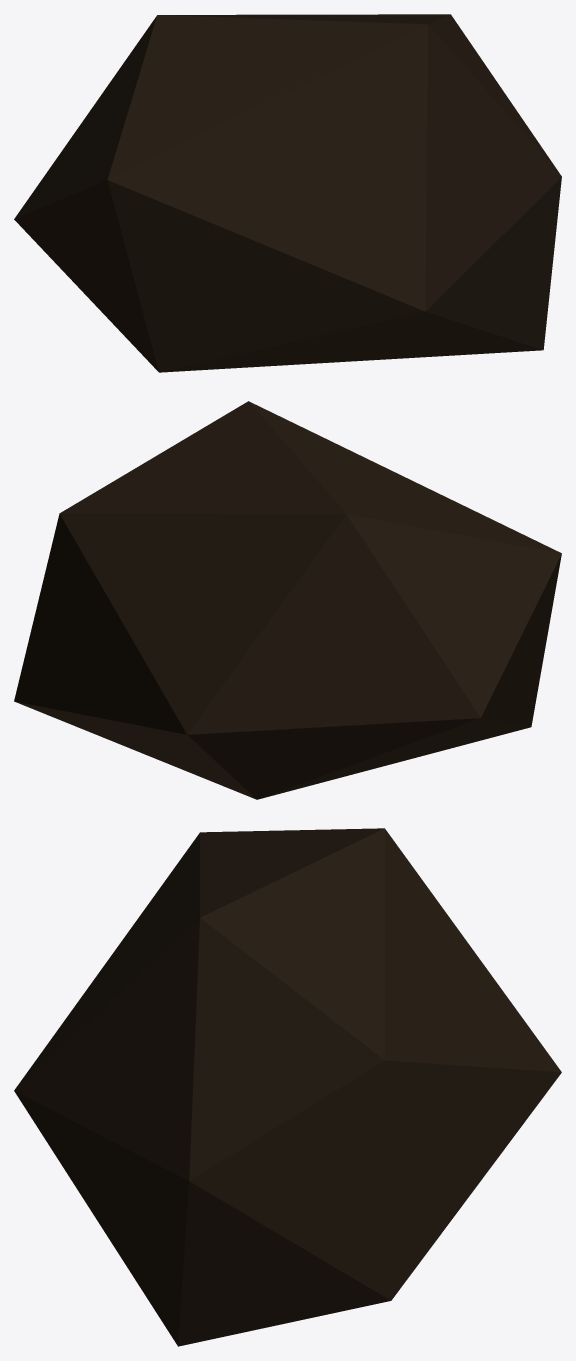
The model's file is Rock 1.FBX.
The picture shows the model from 3 angles, top to bottom: view 1: azimuth 30°, elevation 25°; view 2: azimuth 150°, elevation 25°; view 3: azimuth 270°, elevation 25°; orthographic projection. The views are drawn at different scales.
Parts seen in each view (by area): view 1: Tree round12; view 2: Tree round12; view 3: Tree round12.
Part boxes in pixels (x1,y1,x2,y2): Tree round12: (14, 14, 561, 372); Tree round12: (14, 401, 561, 799); Tree round12: (14, 828, 561, 1346).
Bounding box in the file's own units: 37.96 × 26.16 × 34.82.
